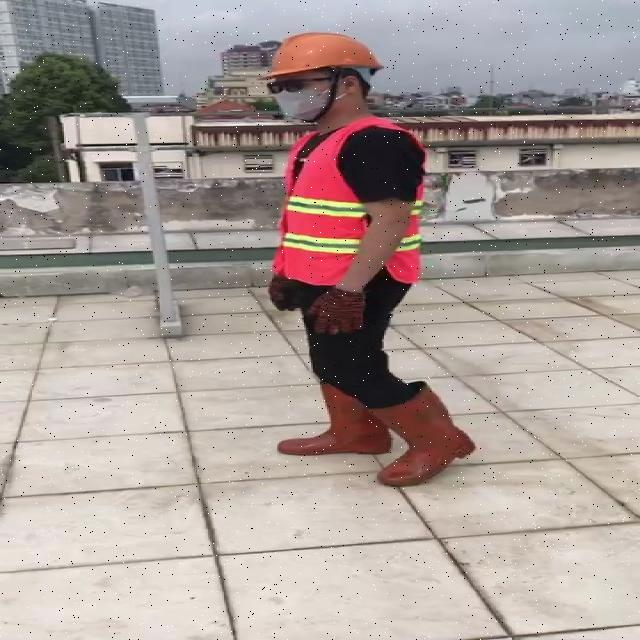Hard_hat: (259, 26, 388, 88)
Person: (256, 31, 484, 493)
Vest: (279, 119, 376, 286)
